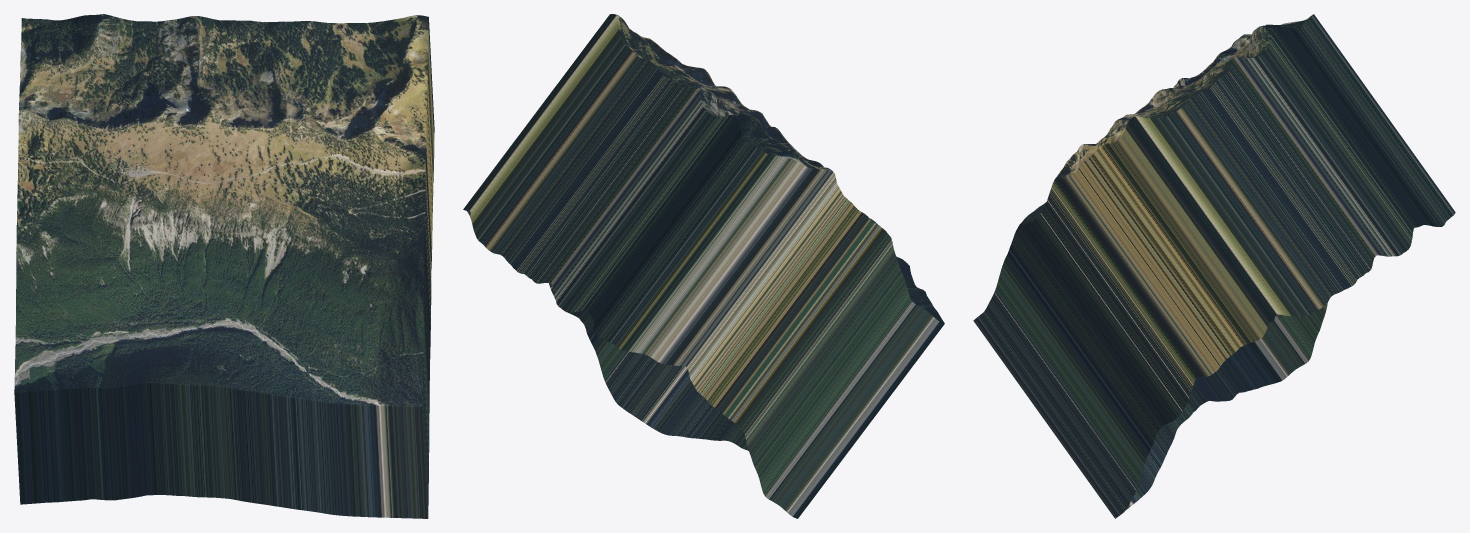
3 renders of one model, left to right at view 1: azimuth 30°, elevation 25°; view 2: azimuth 150°, elevation 25°; view 3: azimuth 270°, elevation 25°, orthographic. The views are drawn at different scales.
Size of the model in its own units: 5845 by 5470 by 5933.
Materials: 1 (1 with a texture image).
